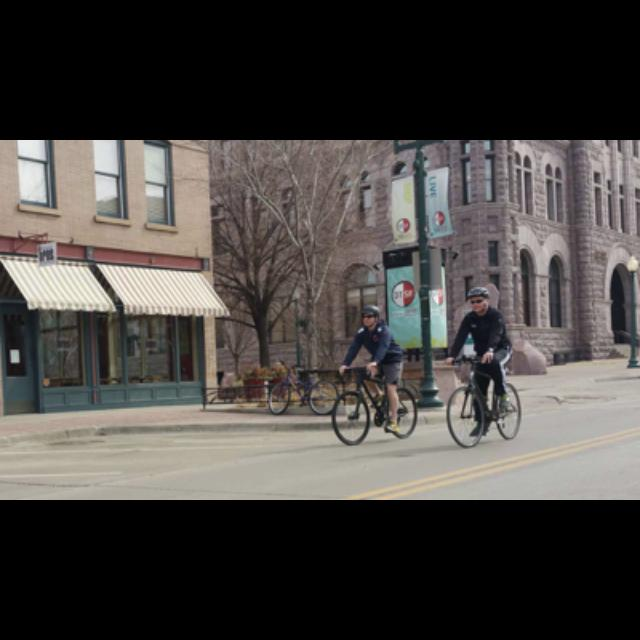With Helmet: (462, 282, 492, 312), (356, 302, 386, 332)
